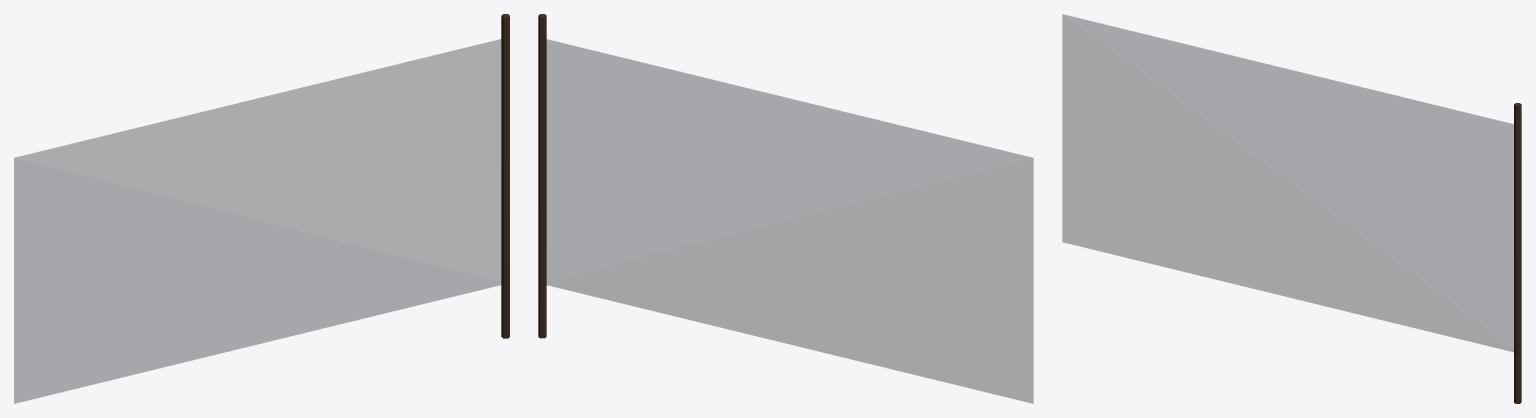
File: lf_metal_fence_one_side.glb
The picture shows the model from 3 angles, left to right: view 1: azimuth 30°, elevation 25°; view 2: azimuth 150°, elevation 25°; view 3: azimuth 330°, elevation 25°; orthographic projection. The views are drawn at different scales.
Visible parts, largest first — view 1: metalfence_one_side_no_topbar; view 2: metalfence_one_side_no_topbar; view 3: metalfence_one_side_no_topbar.
Part boxes in pixels (x1=…): metalfence_one_side_no_topbar: x1=14, y1=14, x2=509, y2=403; metalfence_one_side_no_topbar: x1=538, y1=14, x2=1033, y2=403; metalfence_one_side_no_topbar: x1=1062, y1=14, x2=1521, y2=403.
Size of the model in its own units: 2.69 by 1.67 by 0.04.
